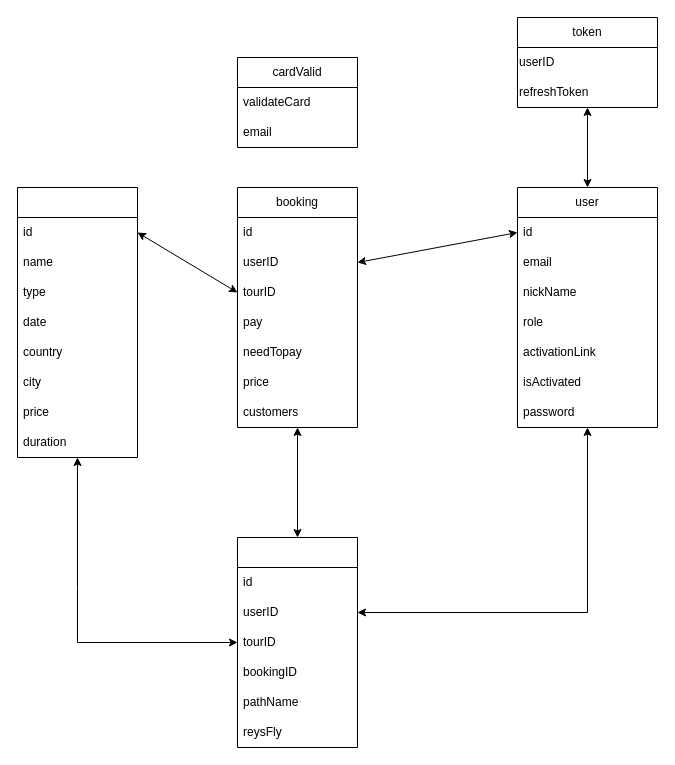
This 675x765 diagram has some shape labels left out. Here are the shapes that lost their labels. From the top down, the box of each, then its label:
(16, 186, 138, 458): tour
(236, 536, 358, 748): tikect
